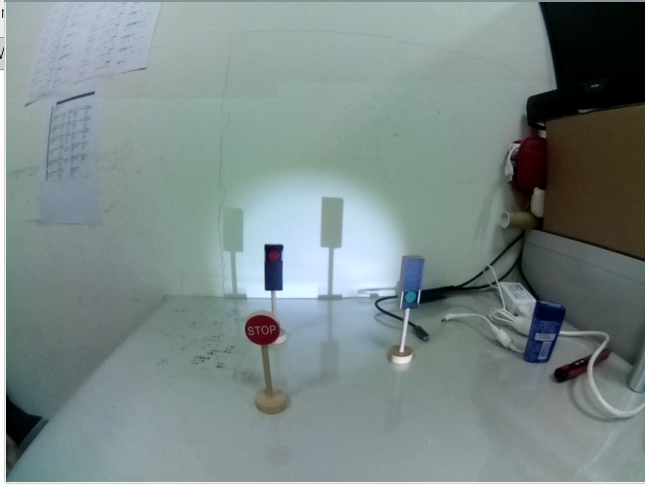Green: (398, 254, 425, 317)
Red: (259, 239, 288, 295)
Stop: (241, 310, 285, 351)
